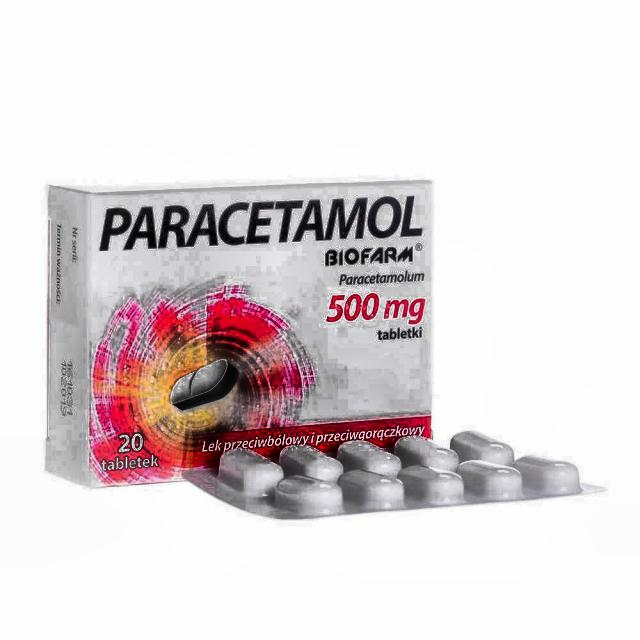Paracetamol: (93, 192, 441, 255)
